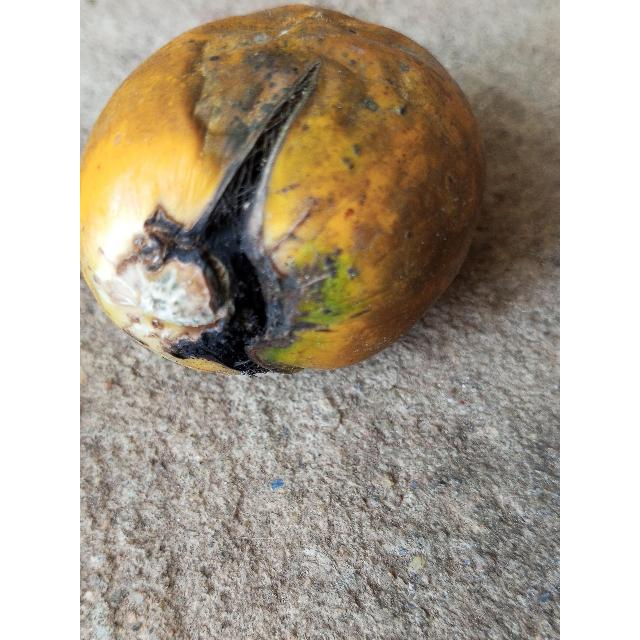damaged: (80, 5, 487, 376)
